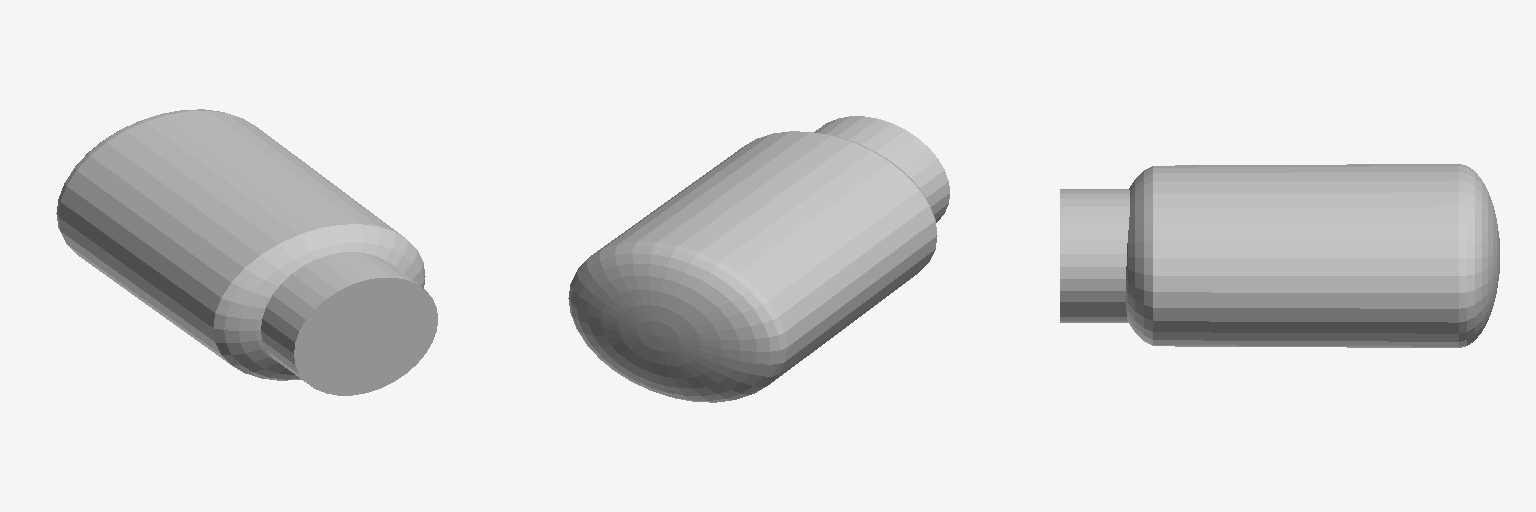
Rendered from bulletWide v0.2.obj.
3 renders of one model, left to right at view 1: azimuth 30°, elevation 25°; view 2: azimuth 150°, elevation 25°; view 3: azimuth 270°, elevation 25°, orthographic.
Visible parts, largest first — view 1: Sphere, Cylinder; view 2: Sphere, Cylinder; view 3: Sphere, Cylinder.
Boxes of the visible parts, x1=… form: Sphere: x1=56, y1=109, x2=425, y2=380; Cylinder: x1=261, y1=252, x2=437, y2=395; Sphere: x1=568, y1=131, x2=937, y2=402; Cylinder: x1=814, y1=116, x2=949, y2=222; Sphere: x1=1126, y1=164, x2=1499, y2=347; Cylinder: x1=1060, y1=189, x2=1129, y2=322.
Bounding box in the file's own units: 3 × 2 × 5.29.